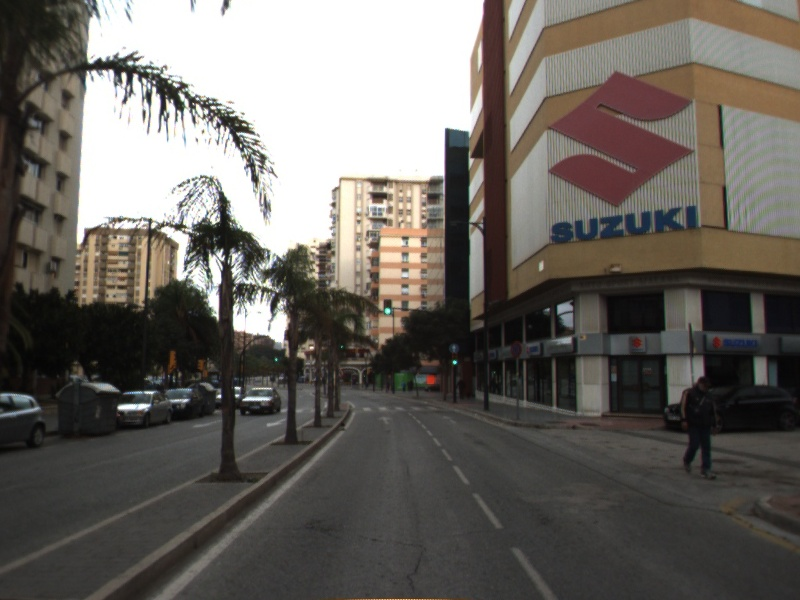STRAIGHT: (375, 414, 395, 427)
